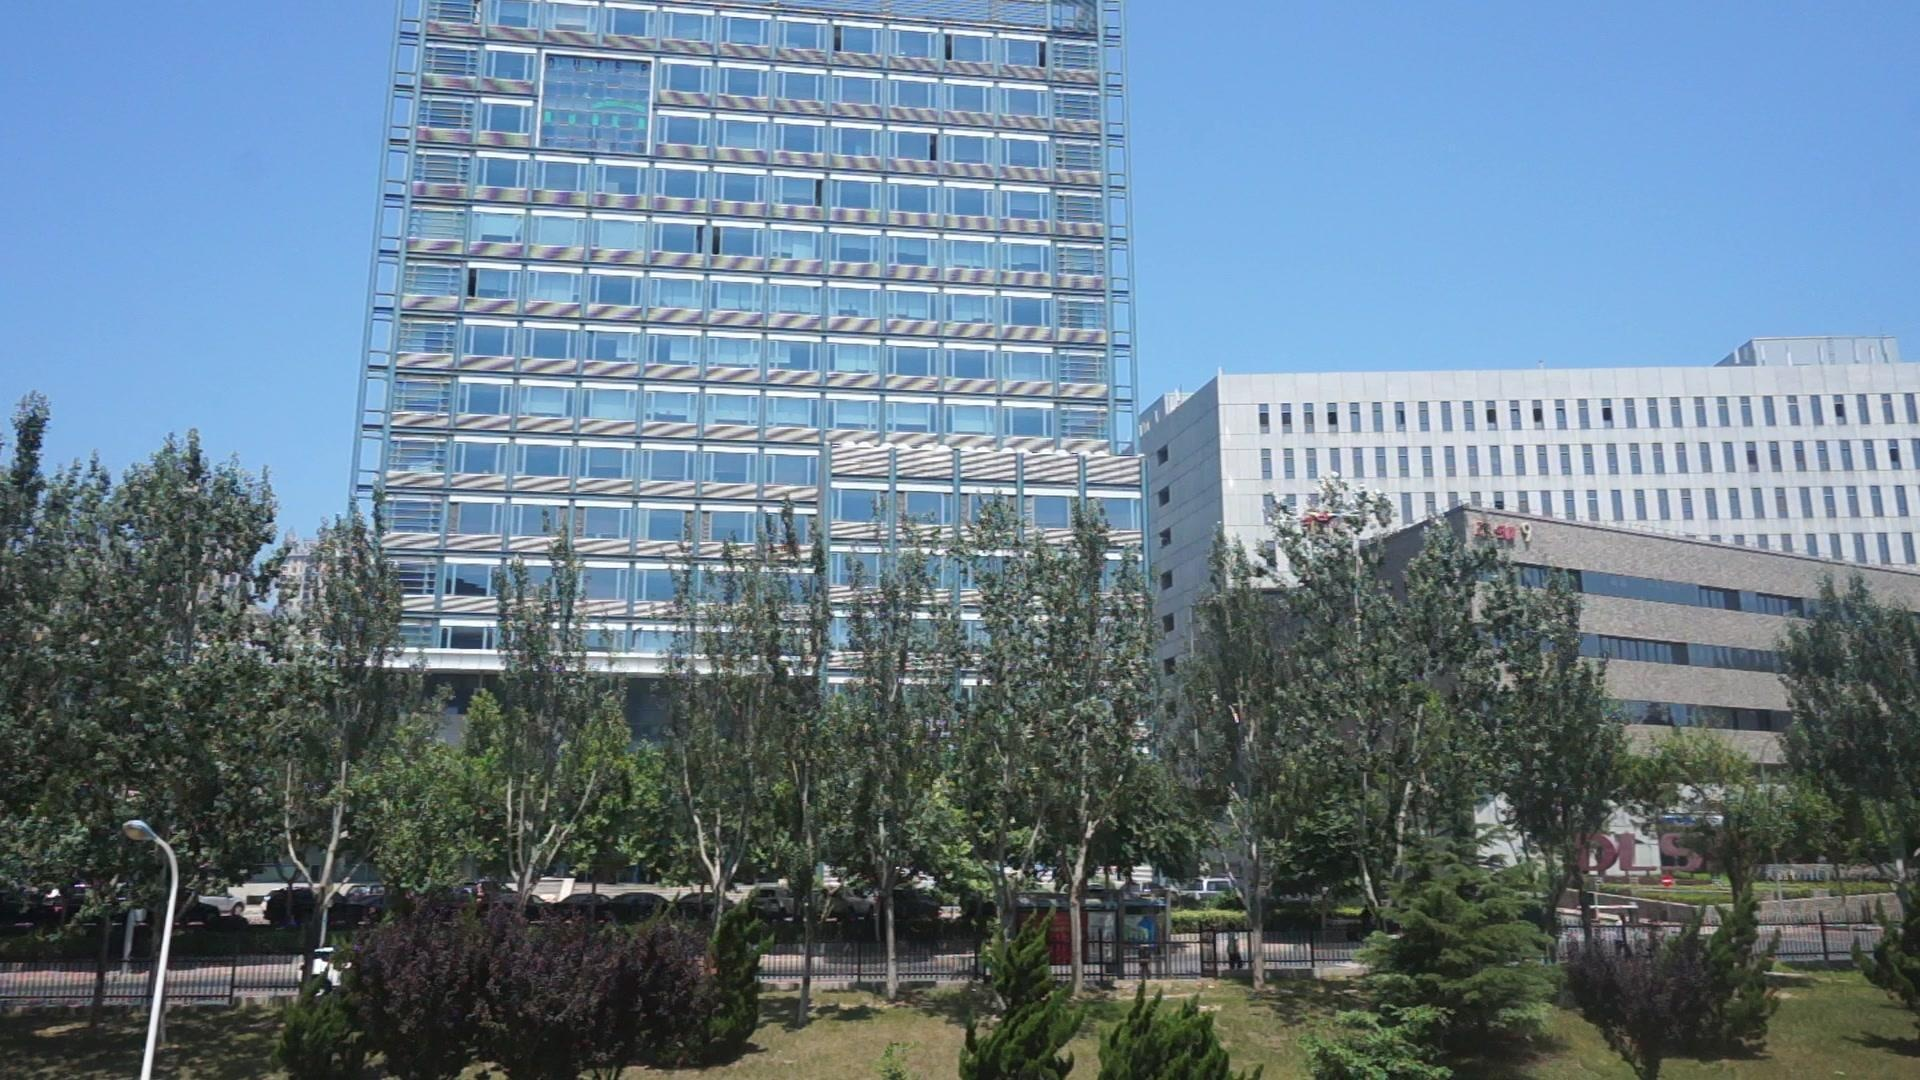UAV: (1288, 509, 1364, 534)
